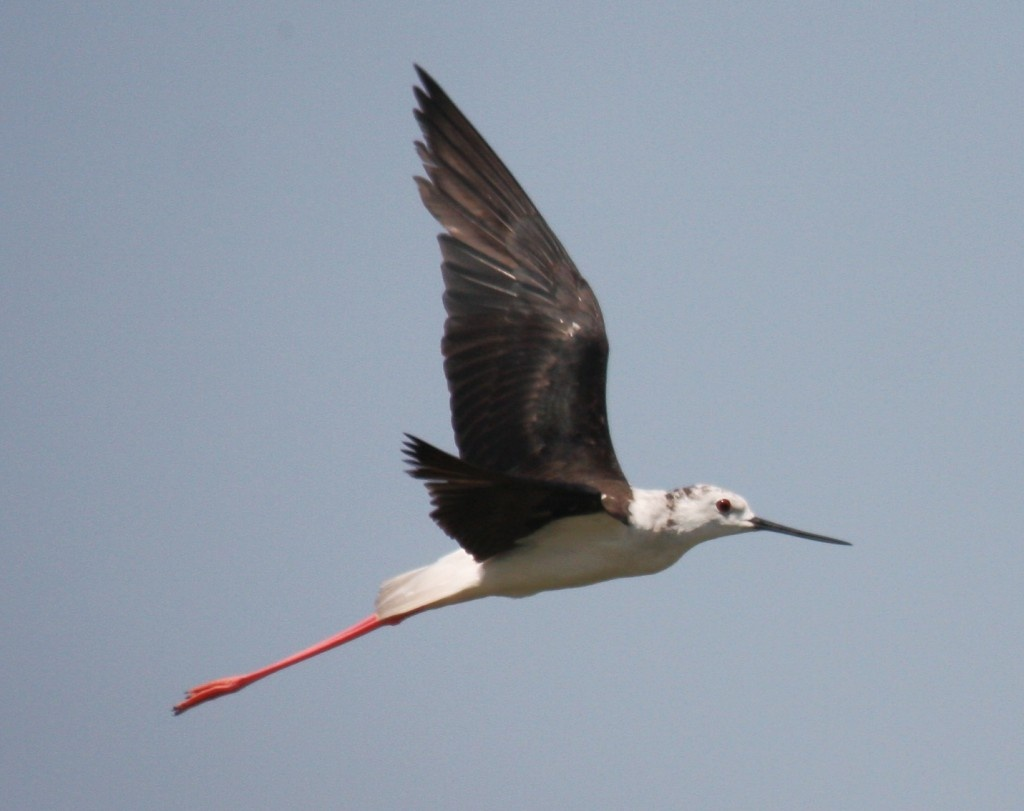bird: (168, 57, 855, 717)
